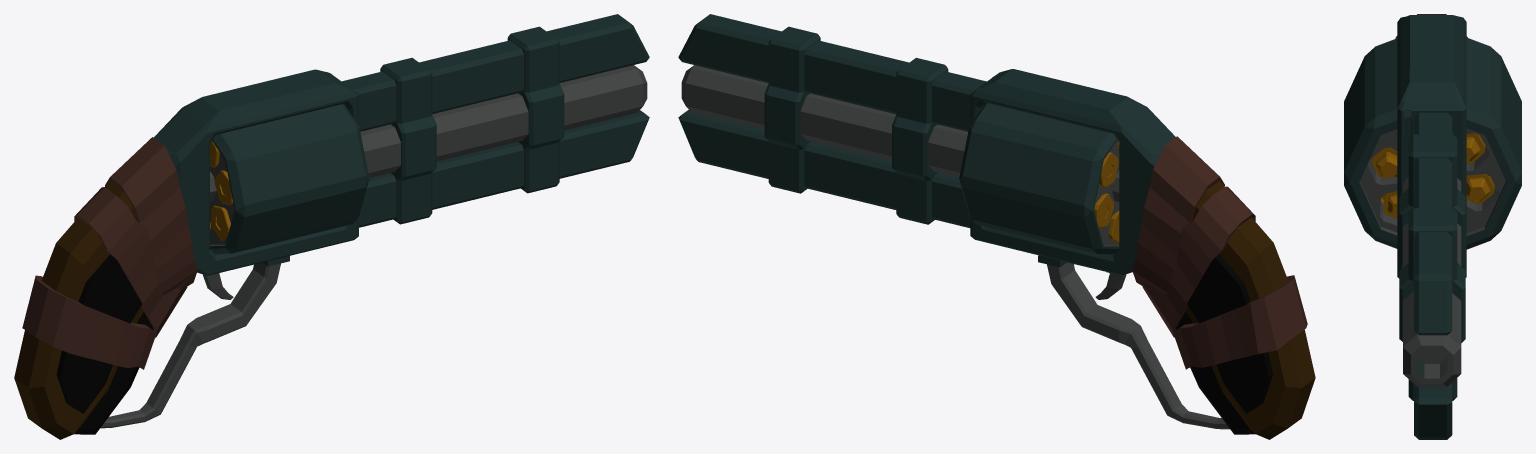
3 renders of one model, left to right at view 1: azimuth 30°, elevation 25°; view 2: azimuth 150°, elevation 25°; view 3: azimuth 270°, elevation 25°, orthographic. The views are drawn at different scales.
Visible parts, largest first — view 1: gun, mag; view 2: gun, mag; view 3: gun, mag.
Part boxes in pixels (bbox=[...]): gun: bbox=[14, 14, 649, 439]; mag: bbox=[210, 104, 369, 253]; gun: bbox=[678, 14, 1315, 439]; mag: bbox=[959, 103, 1119, 254]; gun: bbox=[1395, 14, 1467, 439]; mag: bbox=[1344, 37, 1521, 249].
Size of the model in its own units: 2947 by 1359 by 612.
